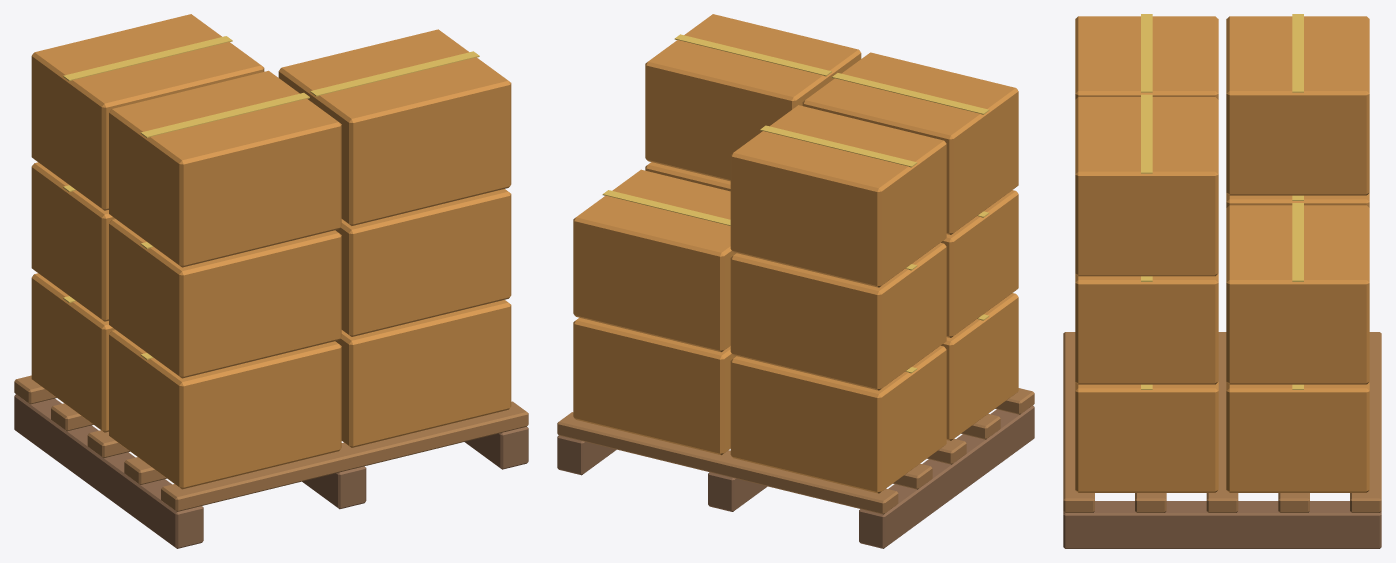
File: pallet_boxes.glb
3 views of the same model, side by side, from view 1: azimuth 30°, elevation 25°; view 2: azimuth 150°, elevation 25°; view 3: azimuth 270°, elevation 25° (orthographic). The views are drawn at different scales.
Visible parts, largest first — view 1: pallet_boxes; view 2: pallet_boxes; view 3: pallet_boxes.
Part boxes in pixels (x1=…): pallet_boxes: x1=14, y1=14, x2=528, y2=548; pallet_boxes: x1=557, y1=14, x2=1034, y2=548; pallet_boxes: x1=1063, y1=14, x2=1381, y2=548.
Bounding box in the file's own units: 1 × 1.03 × 0.8.
1 material, 1 textured.
